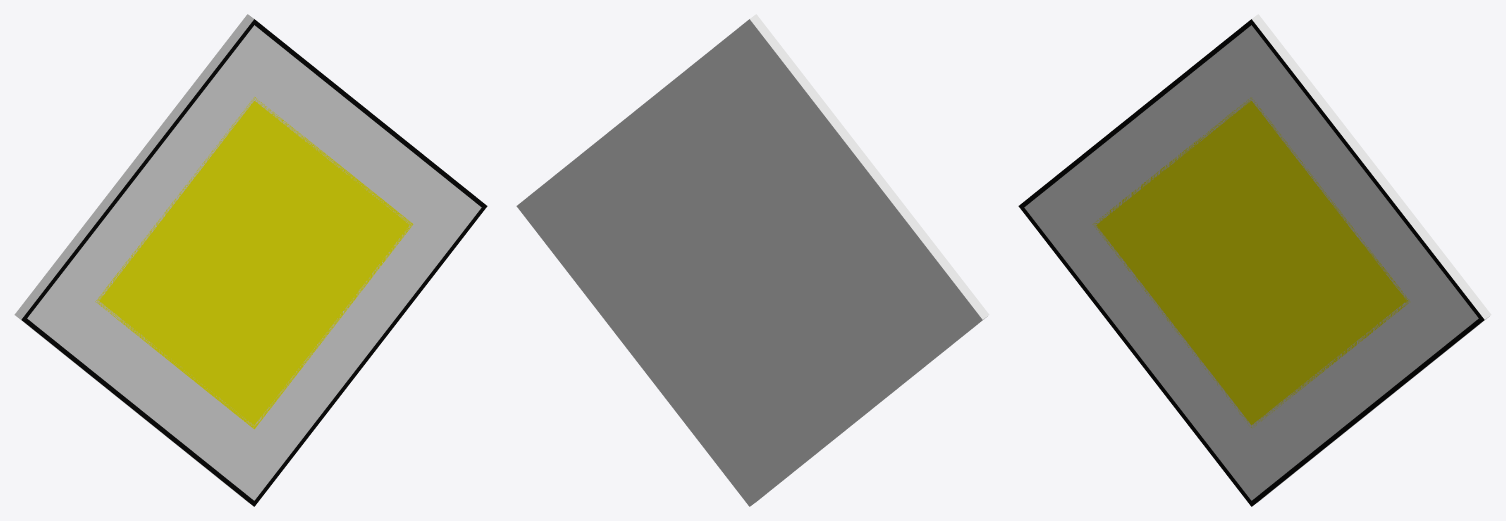
Rendered from PREDNOSTNA.fbx.
3 views of the same model, side by side, from view 1: azimuth 30°, elevation 25°; view 2: azimuth 150°, elevation 25°; view 3: azimuth 330°, elevation 25° (orthographic).
Visible parts, largest first — view 1: Circle; view 2: Circle; view 3: Circle.
Part boxes in pixels (x1,y1,x2,y2): Circle: [14, 14, 487, 506]; Circle: [516, 14, 989, 506]; Circle: [1018, 14, 1491, 506].
Size of the model in its own units: 180 by 4.58 by 180.
